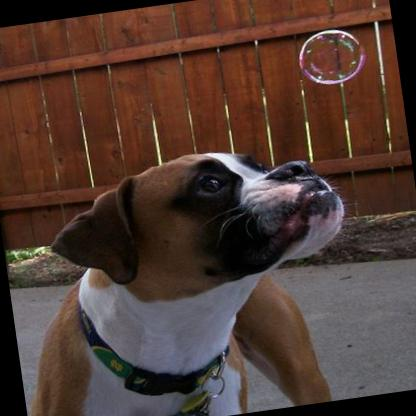boxer: (0, 131, 370, 416)
